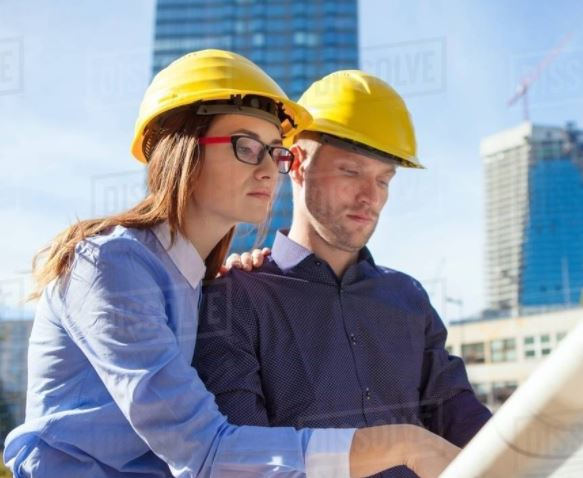Safety Helmet: (123, 34, 314, 230), (284, 50, 430, 264)
